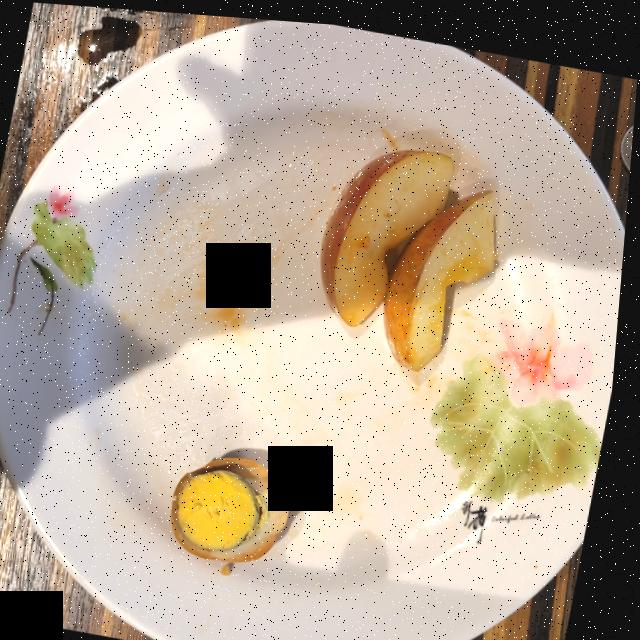apple -sliced-: (324, 143, 499, 364)
coin: (620, 113, 635, 162)
soy egg: (178, 453, 298, 558)
